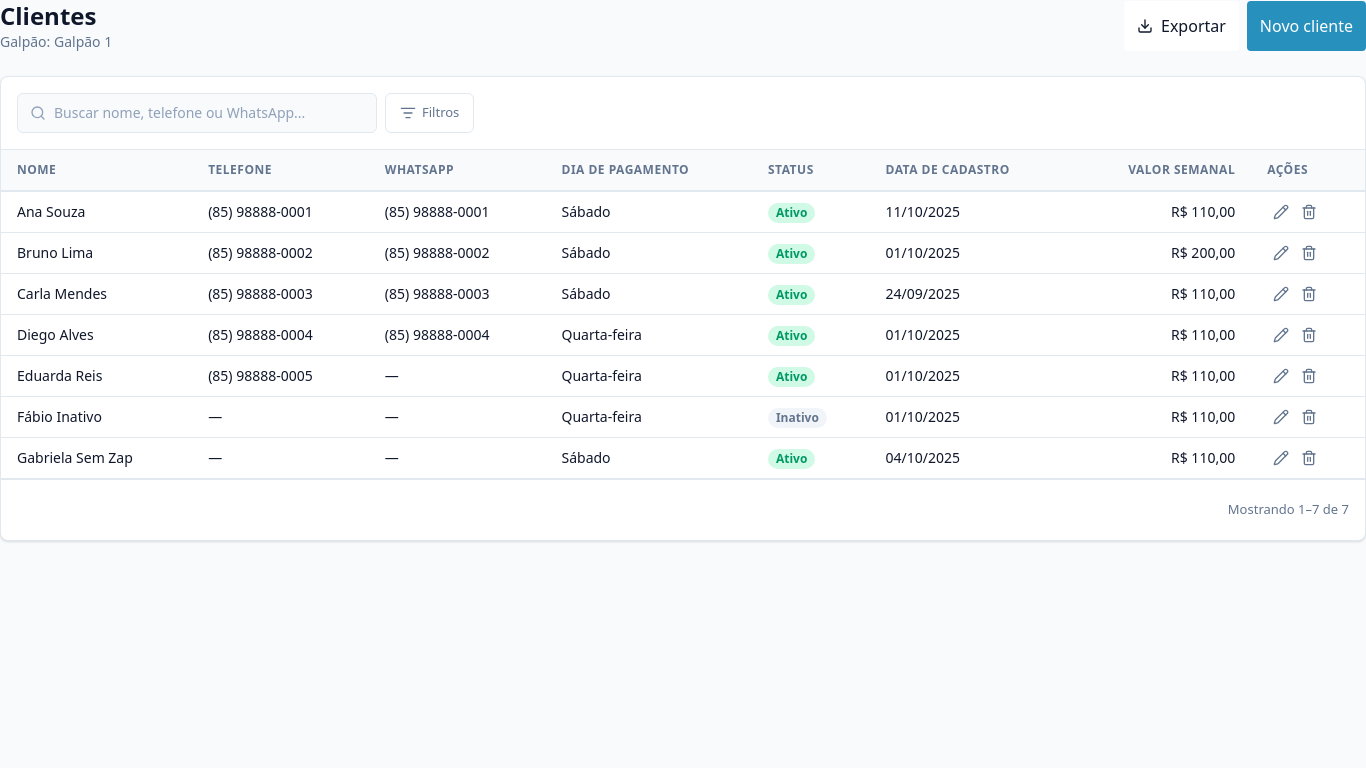
Test: Clientes: busca e filtros › o filtro "Dia de pagamento" mostra só quem paga naquele dia
The image size is (1366, 768).
Click the button "Filtros". click: x=430, y=113
box: [385,93,474,133]
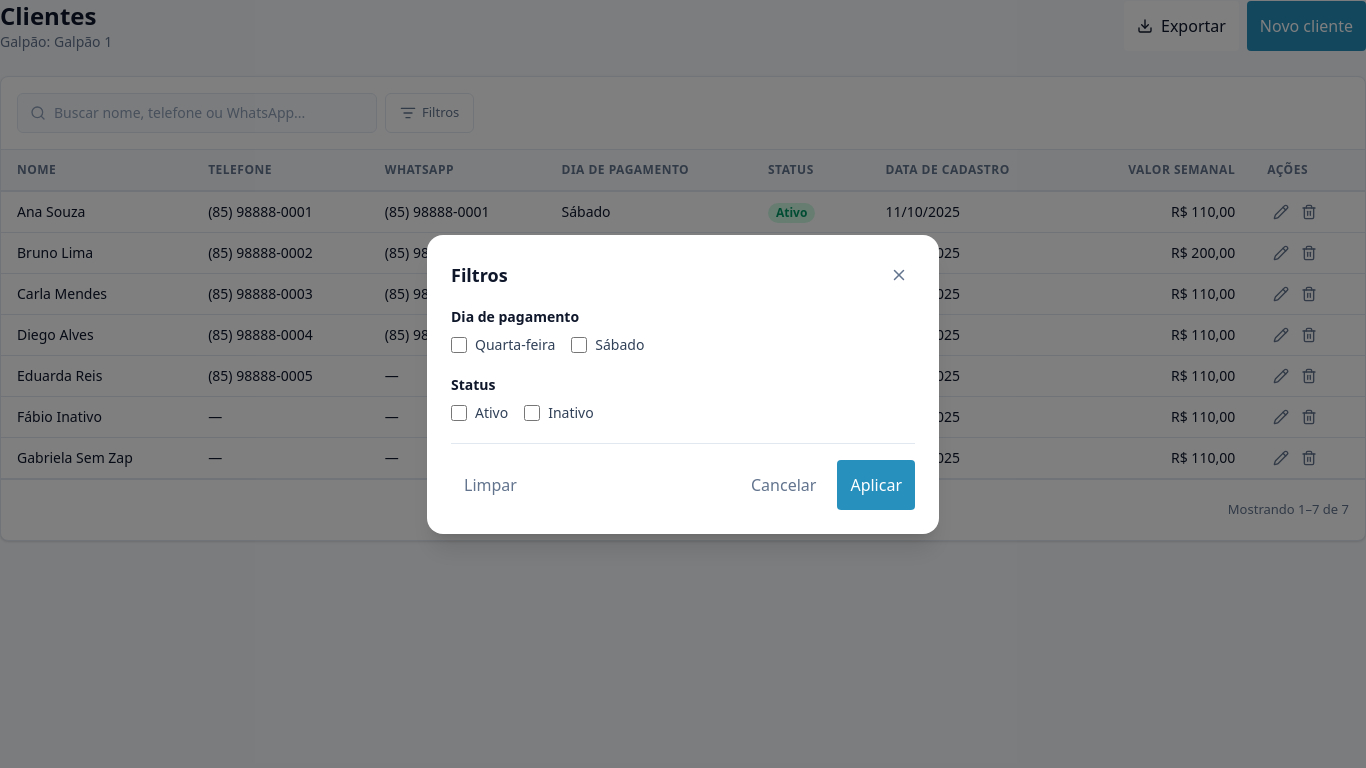
Click the checkbox labelled "Quarta-feira". click: x=459, y=344
box: [451,336,467,352]
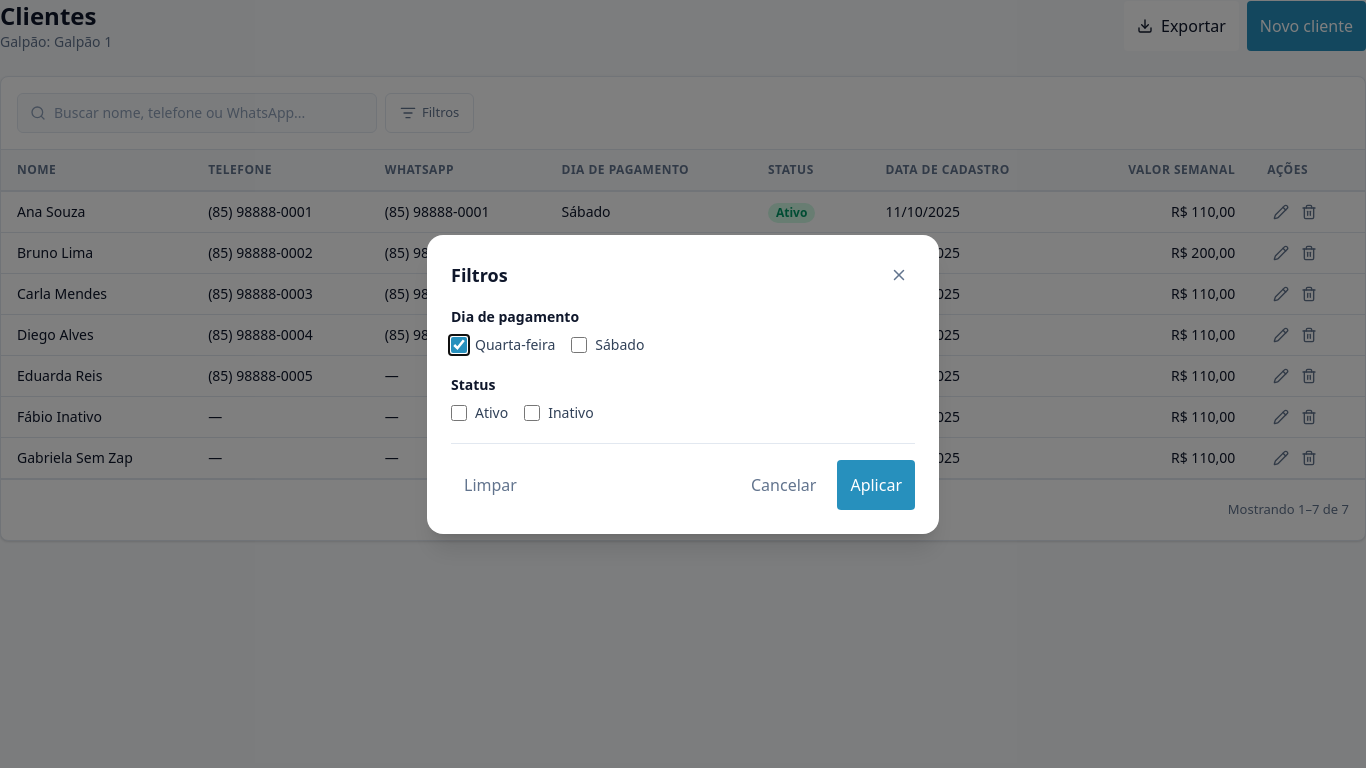
Click the button "Aplicar". click: x=876, y=484
box: [837,460,915,510]
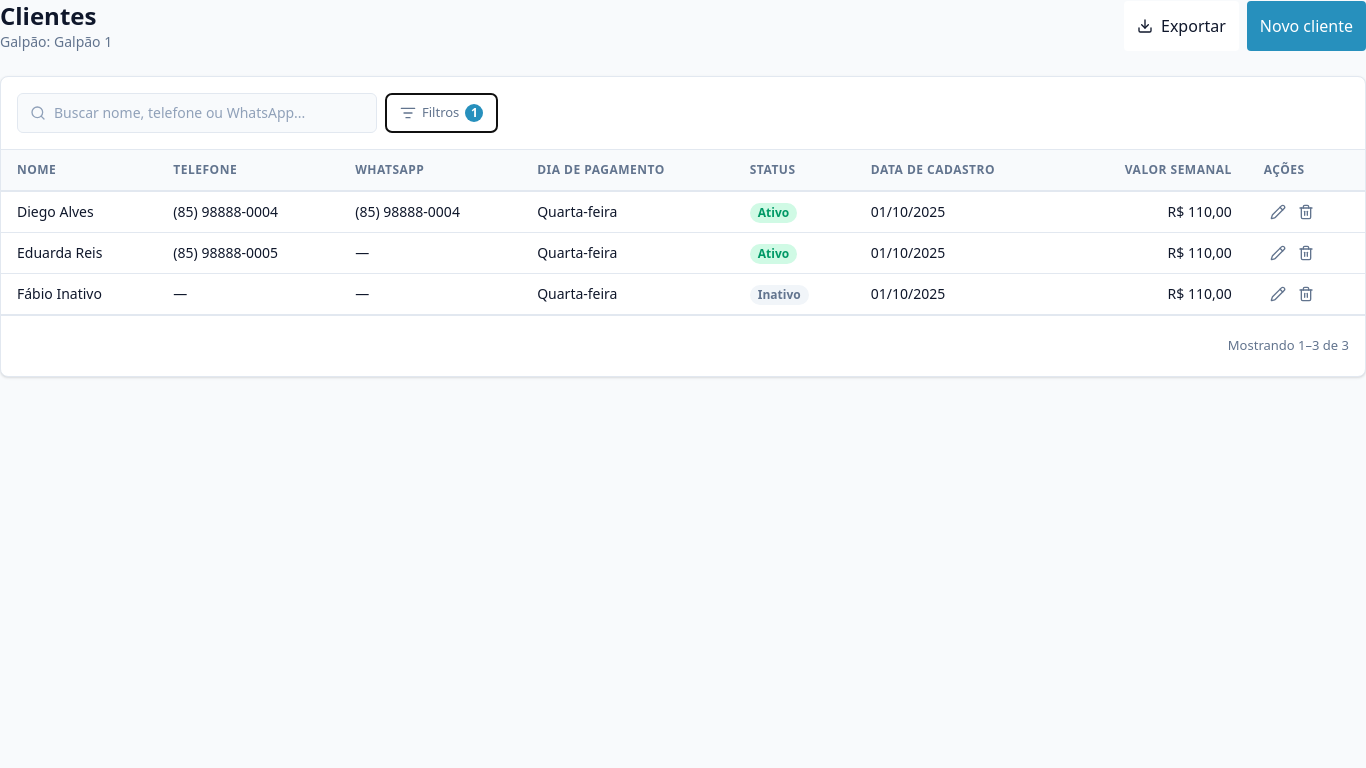
Expected: the button "Filtros 1" is shown, [385,93,498,133]
